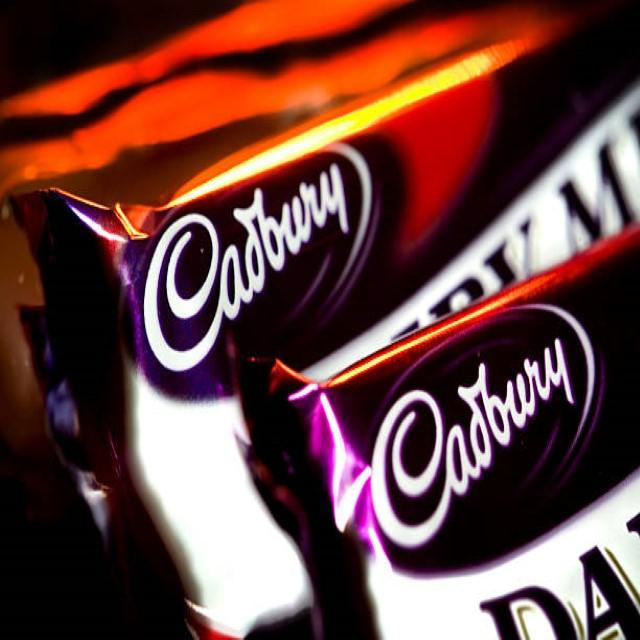cadbury_chocolate: (48, 185, 640, 640), (313, 355, 640, 640)
